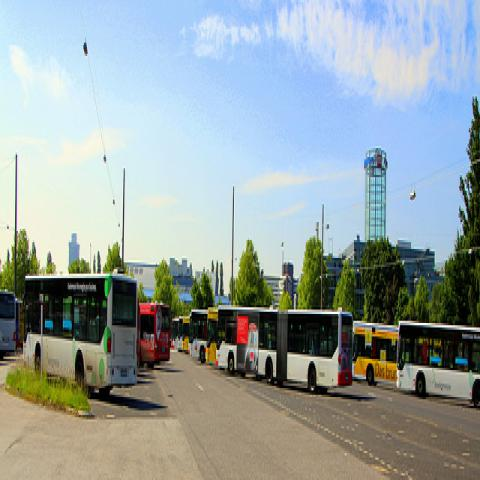bus: (22, 274, 137, 400), (258, 309, 353, 398), (396, 316, 479, 410), (216, 304, 259, 377), (352, 325, 397, 387), (139, 302, 170, 371), (188, 308, 208, 364), (0, 289, 16, 359), (174, 315, 190, 358), (206, 307, 218, 364), (171, 318, 178, 348)
